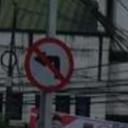NoVirarEsquerda: (22, 34, 78, 94)
